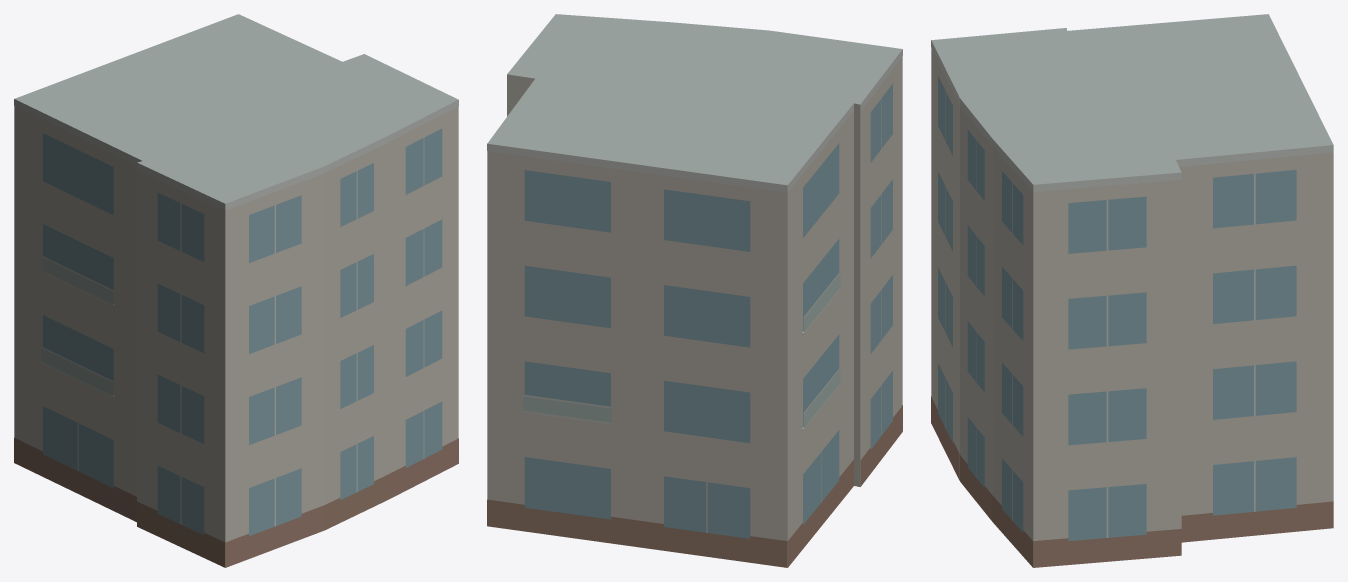
File: survey-upis-32517303.glb
3 renders of one model, left to right at view 1: azimuth 30°, elevation 25°; view 2: azimuth 150°, elevation 25°; view 3: azimuth 270°, elevation 25°, orthographic. The views are drawn at different scales.
Visible parts, largest first — view 1: survey-upis-32517303.tmp; view 2: survey-upis-32517303.tmp; view 3: survey-upis-32517303.tmp.
Boxes of the visible parts, x1,y1,x2,y2 form: survey-upis-32517303.tmp: [14, 14, 458, 567]; survey-upis-32517303.tmp: [487, 14, 902, 567]; survey-upis-32517303.tmp: [931, 14, 1333, 567].
Size of the model in its own units: 12.25 by 12.8 by 12.2.
